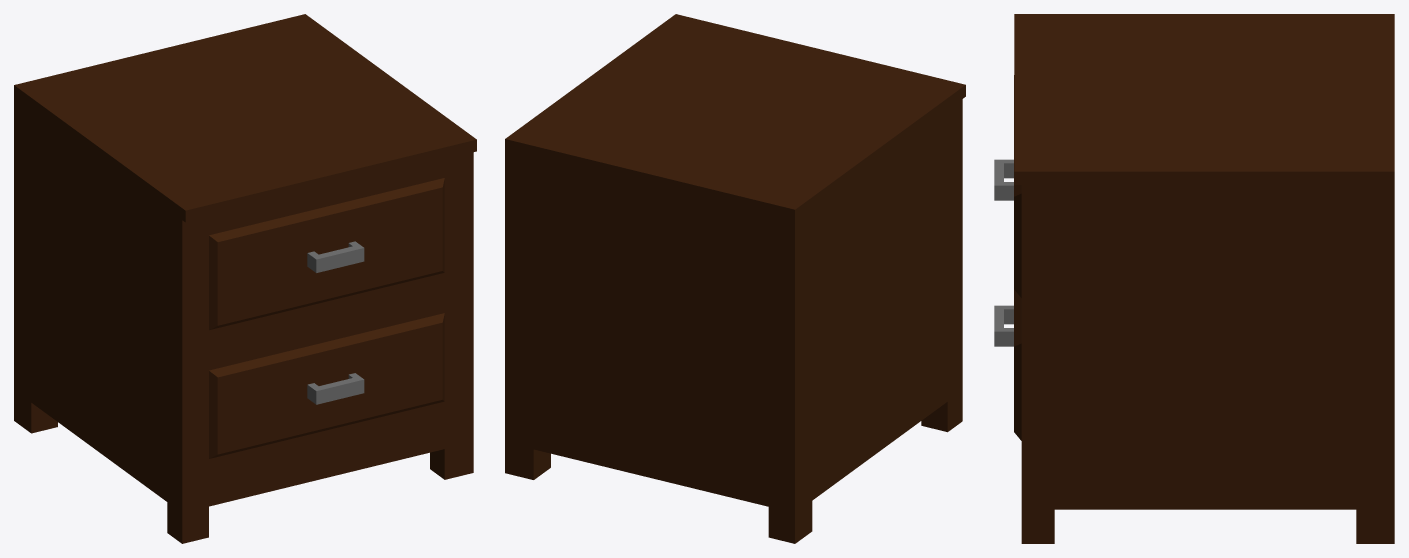
Rendered from MesitaDeLuz.fbx.
The picture shows the model from 3 angles, left to right: view 1: azimuth 30°, elevation 25°; view 2: azimuth 150°, elevation 25°; view 3: azimuth 270°, elevation 25°; orthographic projection. The views are drawn at different scales.
Parts seen in each view (by area): view 1: MesitaDeLuz; view 2: MesitaDeLuz; view 3: MesitaDeLuz.
Part boxes in pixels (box(x1,y1,x2,y2)): MesitaDeLuz: box(14, 14, 476, 543); MesitaDeLuz: box(505, 14, 965, 543); MesitaDeLuz: box(994, 14, 1394, 543).
Size of the model in its own units: 200 by 220 by 215.
